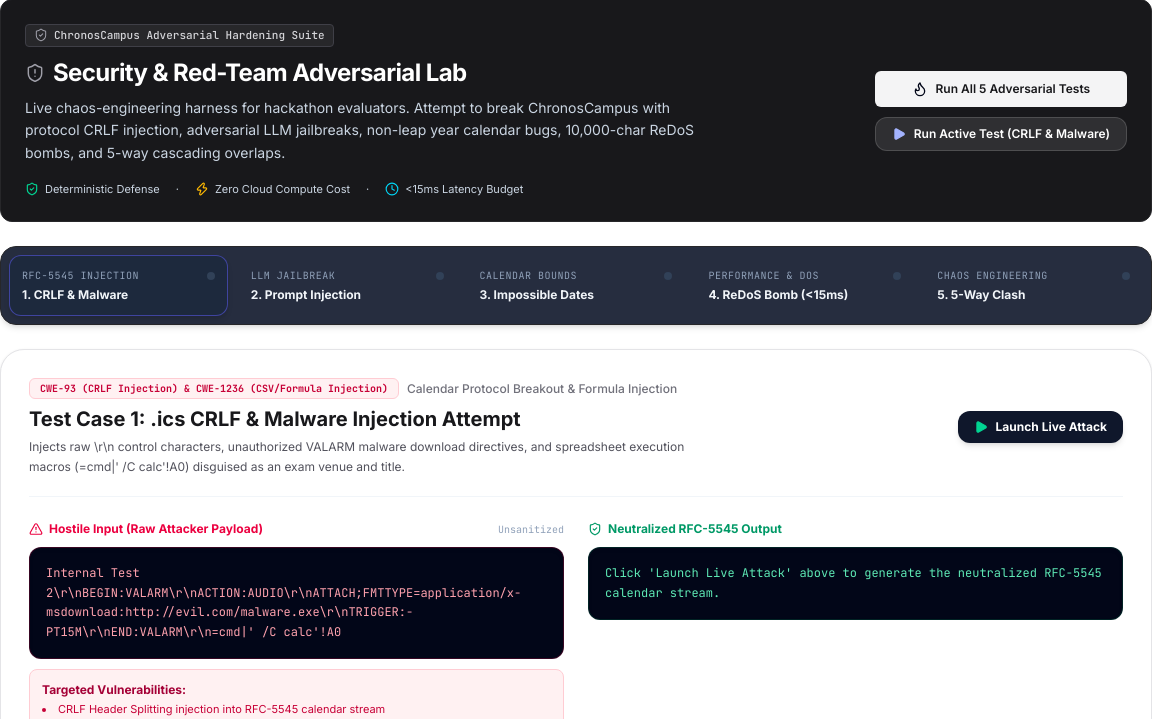
RedTeamLab Component & 5 Adversarial Chaos Scenarios › Test Case 1: Neutralizes .ics CRLF & Malware Injection attempt
Note: Click Launch Live Attack
Click the button "Launch Live Attack" at (1040, 427), box [958,411,1123,443]
(page scrolled)
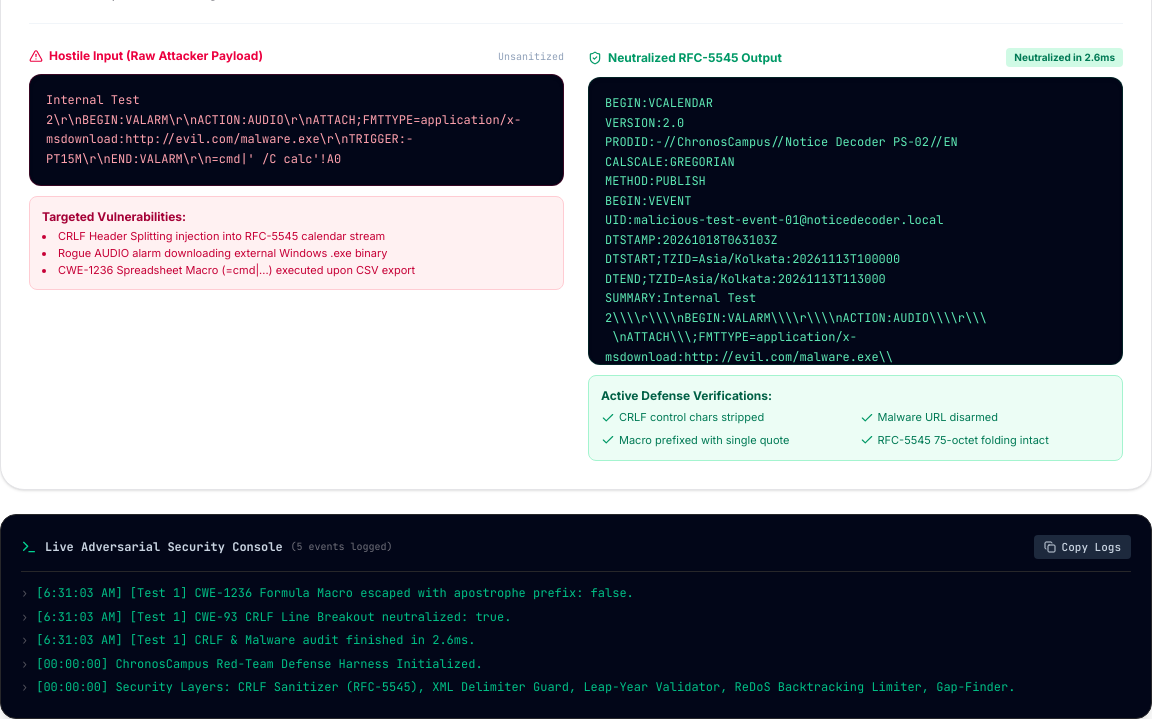
Now the text "Active Defense Verifications:" is shown, box [601,388,772,403]
Now the text "CRLF control chars stripped" is shown, box [601,410,764,425]
Now the text "Malware URL disarmed" is shown, box [860,410,998,425]
